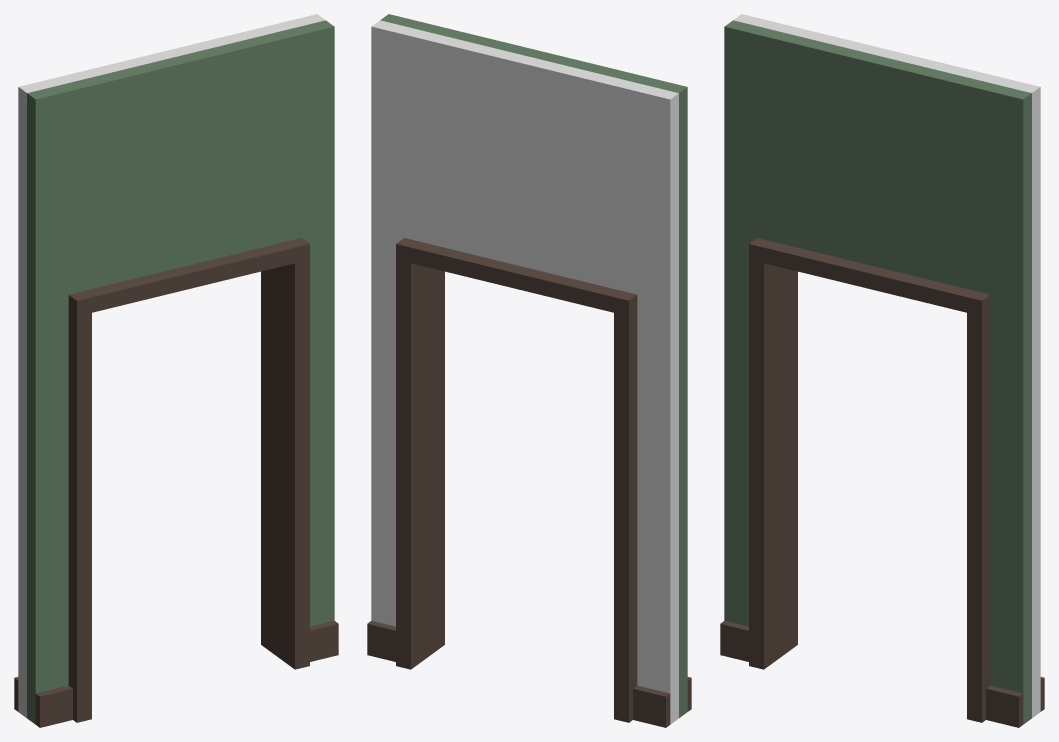
File: h_wall_1_doorFrame_multi_4.fbx
3 views of the same model, side by side, from view 1: azimuth 30°, elevation 25°; view 2: azimuth 150°, elevation 25°; view 3: azimuth 330°, elevation 25° (orthographic).
Parts seen in each view (by area): view 1: Cube, DoorFrame; view 2: Cube, DoorFrame; view 3: Cube, DoorFrame.
Part boxes in pixels (x1=…): Cube: x1=14, y1=14, x2=338, y2=727; DoorFrame: x1=68, y1=238, x2=309, y2=722; Cube: x1=367, y1=14, x2=691, y2=727; DoorFrame: x1=396, y1=238, x2=637, y2=722; Cube: x1=720, y1=14, x2=1044, y2=727; DoorFrame: x1=749, y1=238, x2=990, y2=722.
Size of the model in its own units: 200 by 400 by 39.37.
